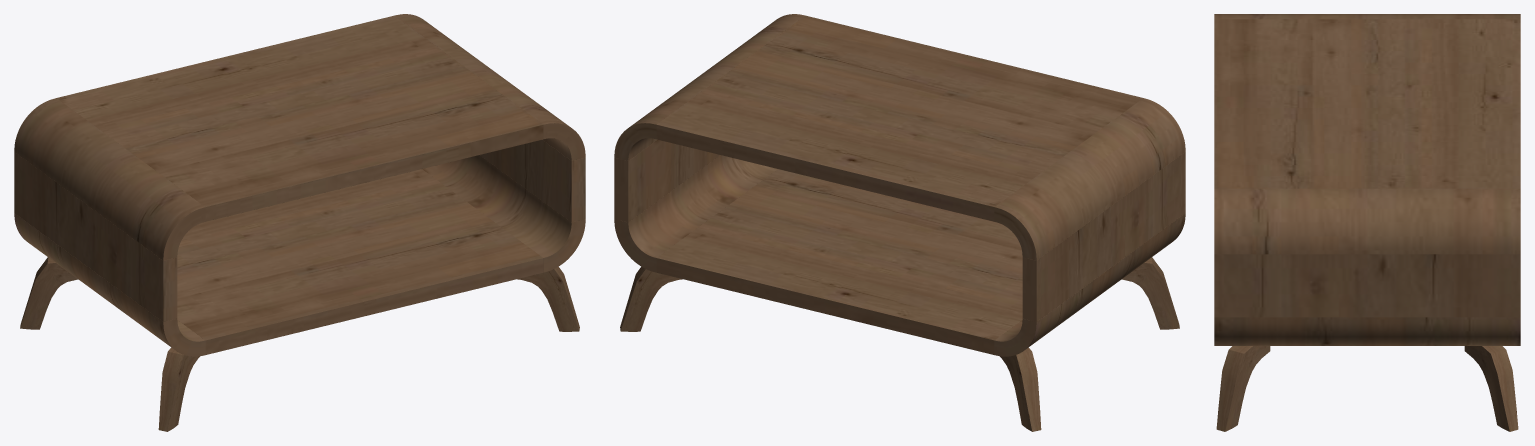
Rendered from curved_wood_coffee_table.glb.
3 renders of one model, left to right at view 1: azimuth 30°, elevation 25°; view 2: azimuth 150°, elevation 25°; view 3: azimuth 270°, elevation 25°, orthographic. The views are drawn at different scales.
Visible parts, largest first — view 1: Base; view 2: Base; view 3: Base.
Boxes of the visible parts, x1,y1,x2,y2 form: Base: (14,14,585,431); Base: (614,14,1185,431); Base: (1214,14,1520,431).
Bounding box in the file's own units: 0.8999 × 0.441 × 0.55.
2 materials, 2 textured.
